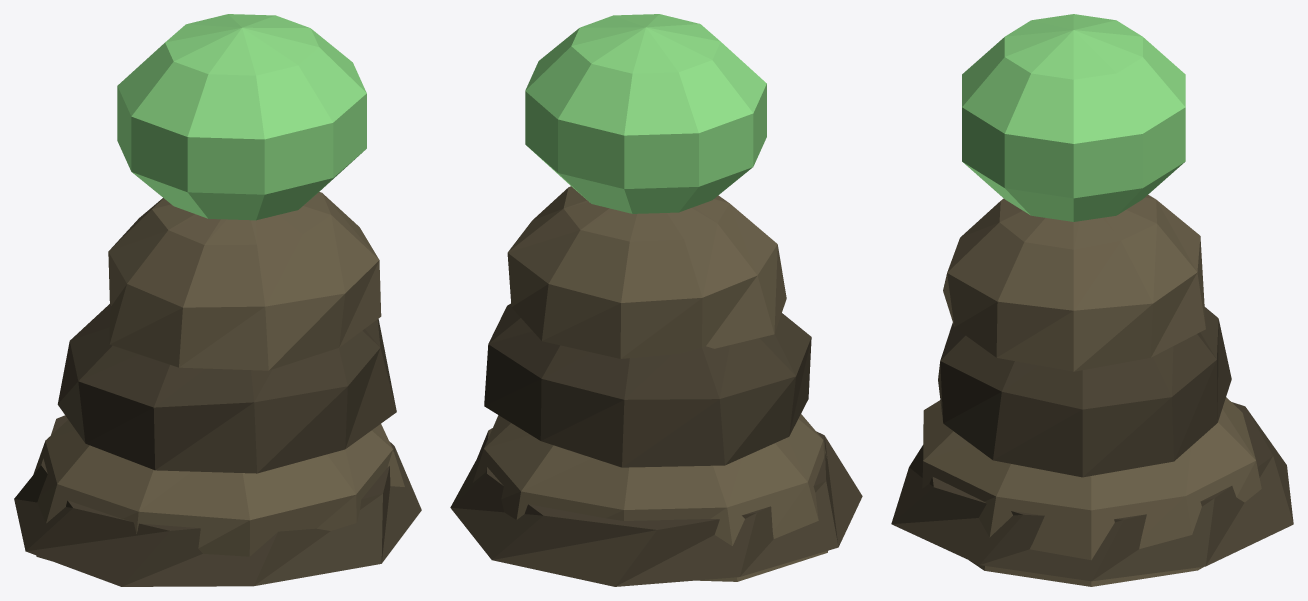
Rendered from glowpod.obj.
3 views of the same model, side by side, from view 1: azimuth 30°, elevation 25°; view 2: azimuth 150°, elevation 25°; view 3: azimuth 270°, elevation 25° (orthographic). The views are drawn at different scales.
Parts seen in each view (by area): view 1: glowpod; view 2: glowpod; view 3: glowpod.
Boxes of the visible parts, box(x1,y1,x2,y2) form: glowpod: box(14, 14, 421, 586); glowpod: box(450, 14, 862, 586); glowpod: box(891, 14, 1293, 586).
Size of the model in its own units: 0.4808 by 0.6 by 0.4562.
